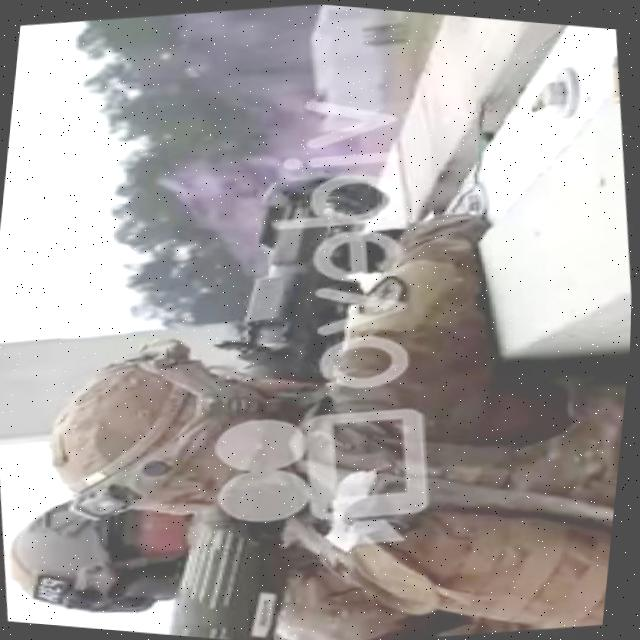rocket: (96, 149, 446, 640)
